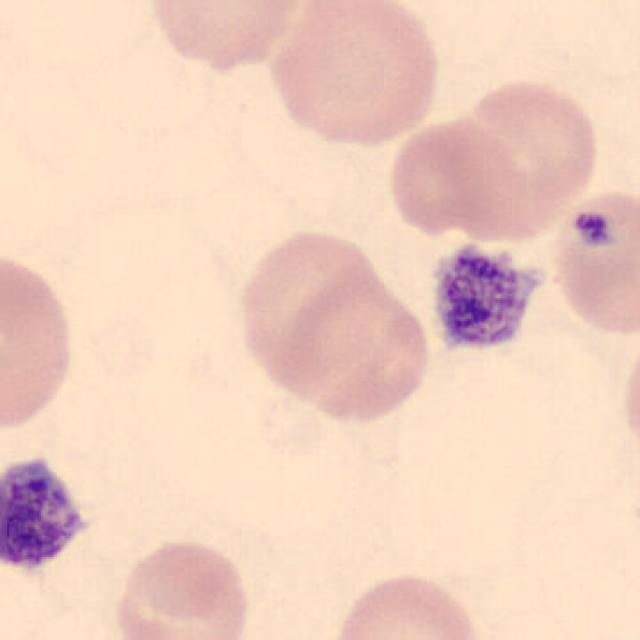Platelets: (425, 242, 542, 362), (0, 453, 94, 578)
RBC: (437, 70, 603, 244), (276, 252, 436, 432), (231, 224, 391, 402), (265, 0, 446, 150), (382, 113, 535, 241), (0, 243, 80, 439), (110, 534, 256, 640), (546, 182, 640, 340), (142, 0, 311, 74), (325, 567, 490, 640), (618, 333, 640, 458)
